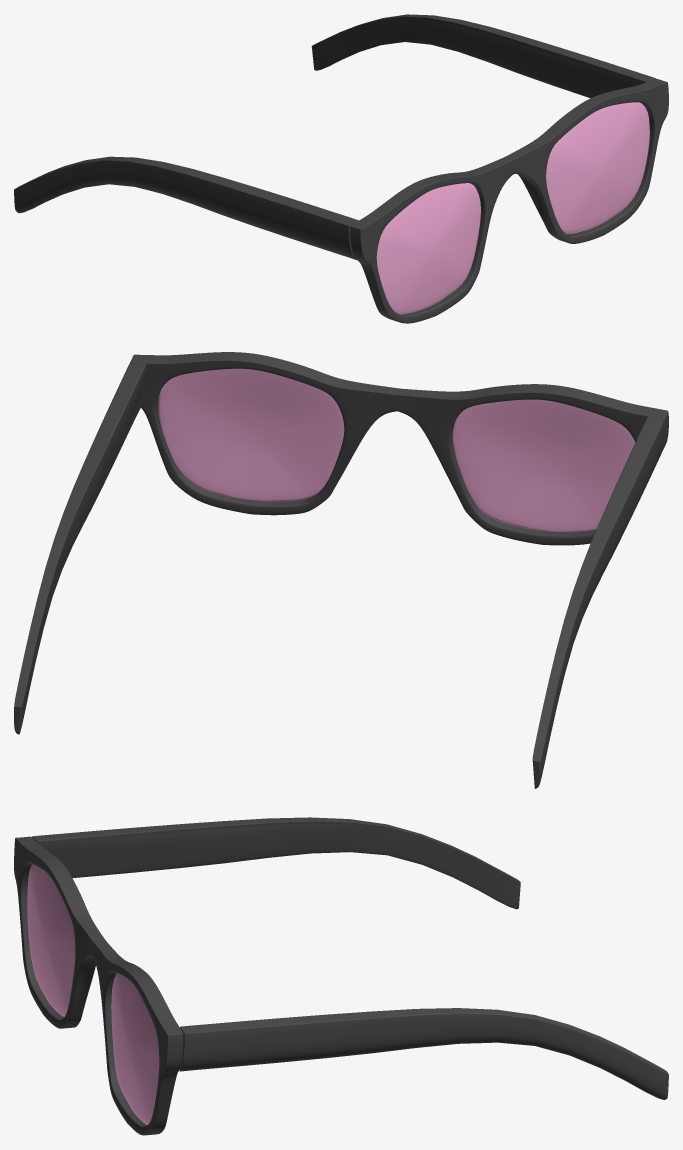
File: glasses.fbx
The picture shows the model from 3 angles, top to bottom: view 1: azimuth 30°, elevation 25°; view 2: azimuth 150°, elevation 25°; view 3: azimuth 270°, elevation 25°; orthographic projection. The views are drawn at different scales.
Parts seen in each view (by area): view 1: glasses5:frame3; view 2: glasses5:frame3; view 3: glasses5:frame3.
Part boxes in pixels (x1,y1,x2,y2): glasses5:frame3: [14, 14, 668, 323]; glasses5:frame3: [14, 352, 668, 788]; glasses5:frame3: [14, 817, 668, 1135].
Size of the model in its own units: 29.27 by 7.71 by 30.13.
